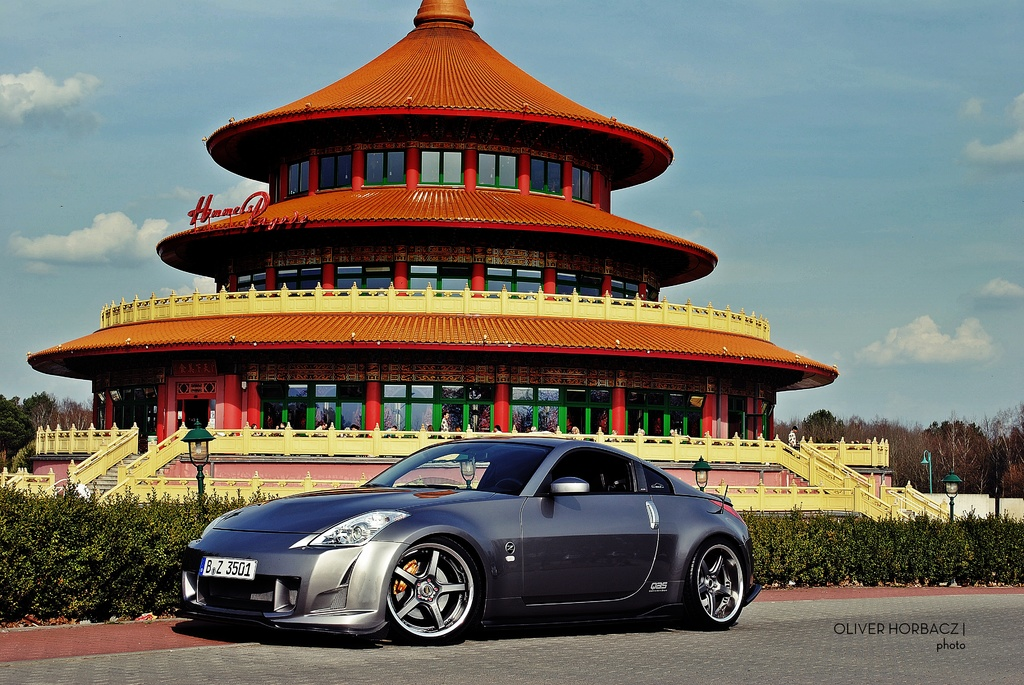cars: (179, 433, 769, 651)
